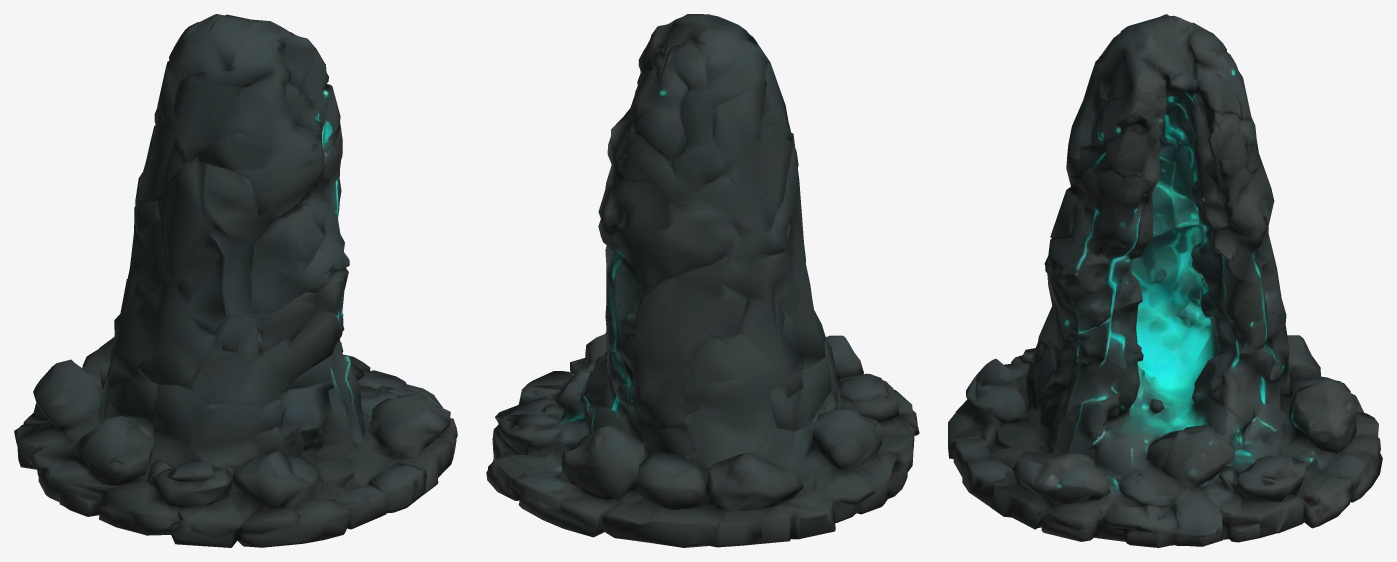
The model's file is lifecore_pylon.glb.
The picture shows the model from 3 angles, left to right: view 1: azimuth 30°, elevation 25°; view 2: azimuth 150°, elevation 25°; view 3: azimuth 270°, elevation 25°; orthographic projection.
Parts seen in each view (by area): view 1: tripo_node_9699e80d-91ca-42ac-8ea3-da4033614cee; view 2: tripo_node_9699e80d-91ca-42ac-8ea3-da4033614cee; view 3: tripo_node_9699e80d-91ca-42ac-8ea3-da4033614cee.
Part boxes in pixels (<box>): tripo_node_9699e80d-91ca-42ac-8ea3-da4033614cee: <box>14,14,457,547</box>; tripo_node_9699e80d-91ca-42ac-8ea3-da4033614cee: <box>486,14,919,547</box>; tripo_node_9699e80d-91ca-42ac-8ea3-da4033614cee: <box>948,14,1382,547</box>.
Size of the model in its own units: 0.8865 by 1 by 0.9002.
1 material, 1 textured.
